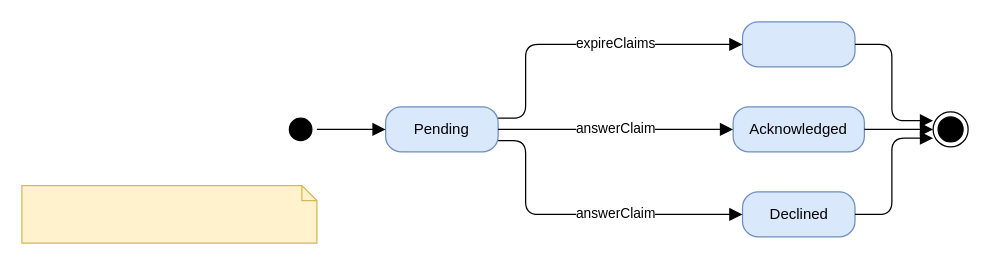
This 990x265 diagram has some shape labels left out. Here are the shapes that lost their labels. From the top down, the centre of each, then its label:
At (798,44): "Expired".
At (169,213): "Allowed by the database, not set by the current code: Settled".
